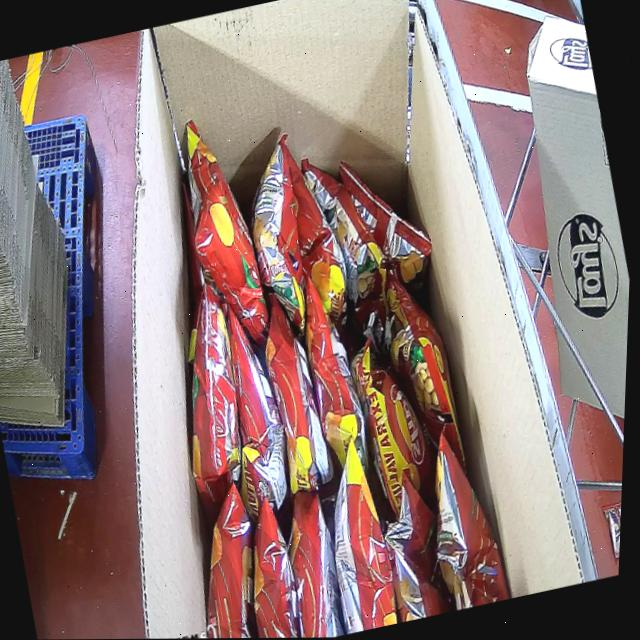MASALA: (98, 70, 529, 639)
